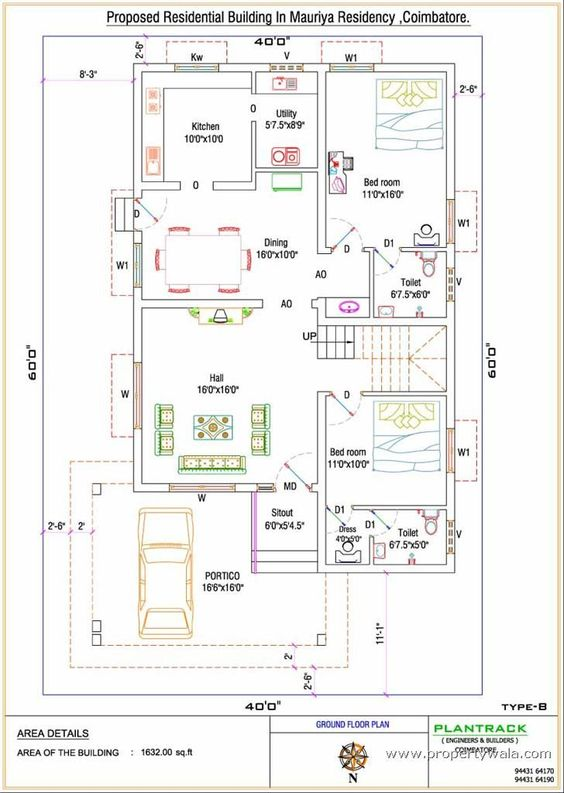window: (167, 482, 237, 494), (132, 360, 142, 429), (132, 243, 143, 289), (446, 199, 457, 245), (445, 428, 456, 474), (174, 63, 218, 74), (330, 63, 374, 74)
